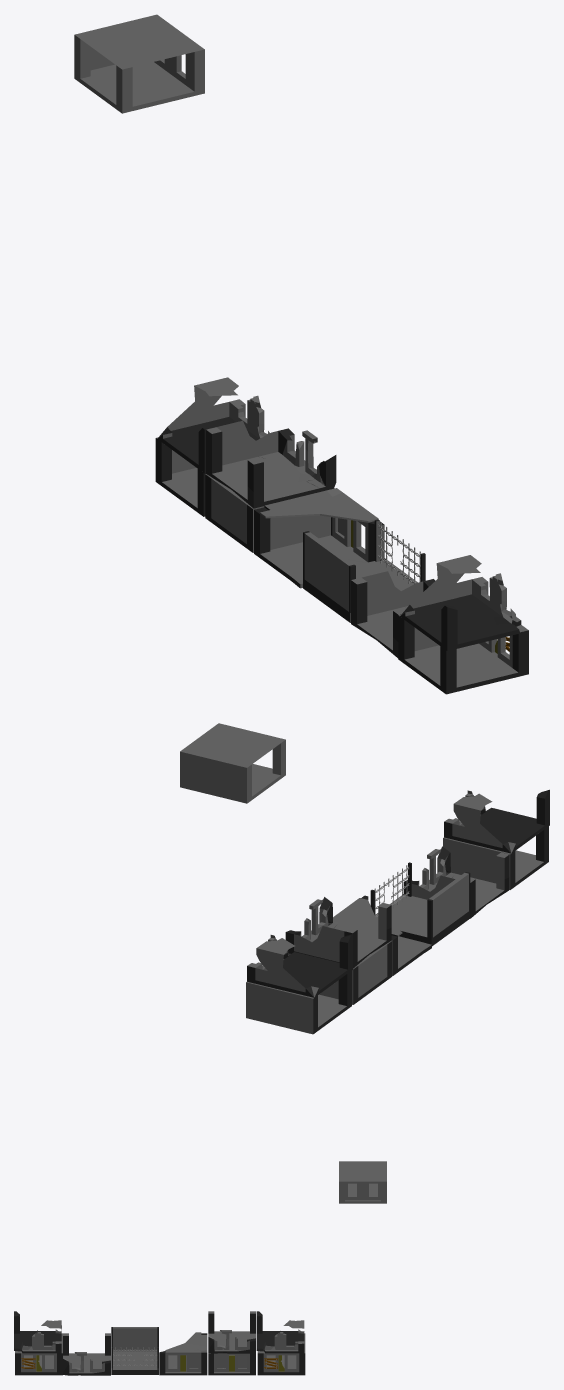
File: House.fbx
3 views of the same model, one above another, from view 1: azimuth 30°, elevation 25°; view 2: azimuth 150°, elevation 25°; view 3: azimuth 270°, elevation 25° (orthographic). The views are drawn at different scales.
Visible parts, largest first — view 1: Block1, Block5, Cube.007, Block4, Block6, Block3, Block2; view 2: Block6, Block1, Cube.007, Block5, Block3, Block2, Block4; view 3: Block6, Block1, Block5, Block3, Cube.007, Block4, Block2.
Part boxes in pixels (x1=…): Block1: x1=398, y1=555, x2=528, y2=694; Block5: x1=205, y1=420, x2=336, y2=552; Cube.007: x1=74, y1=14, x2=204, y2=113; Block4: x1=254, y1=488, x2=384, y2=588; Block6: x1=155, y1=377, x2=269, y2=516; Block3: x1=303, y1=519, x2=425, y2=622; Block2: x1=351, y1=571, x2=435, y2=658; Block6: x1=246, y1=934, x2=352, y2=1034; Block1: x1=443, y1=789, x2=549, y2=889; Cube.007: x1=180, y1=723, x2=285, y2=803; Block5: x1=285, y1=897, x2=392, y2=1004; Block3: x1=370, y1=862, x2=470, y2=946; Block2: x1=403, y1=846, x2=509, y2=918; Block4: x1=333, y1=895, x2=431, y2=975; Block6: x1=256, y1=1311, x2=305, y2=1375; Block1: x1=14, y1=1311, x2=62, y2=1375; Block5: x1=208, y1=1311, x2=255, y2=1375; Block3: x1=111, y1=1327, x2=158, y2=1374; Cube.007: x1=339, y1=1161, x2=386, y2=1203; Block4: x1=159, y1=1332, x2=207, y2=1375; Block2: x1=63, y1=1333, x2=110, y2=1375.
Size of the model in its own units: 25.84 by 76.78 by 192.
